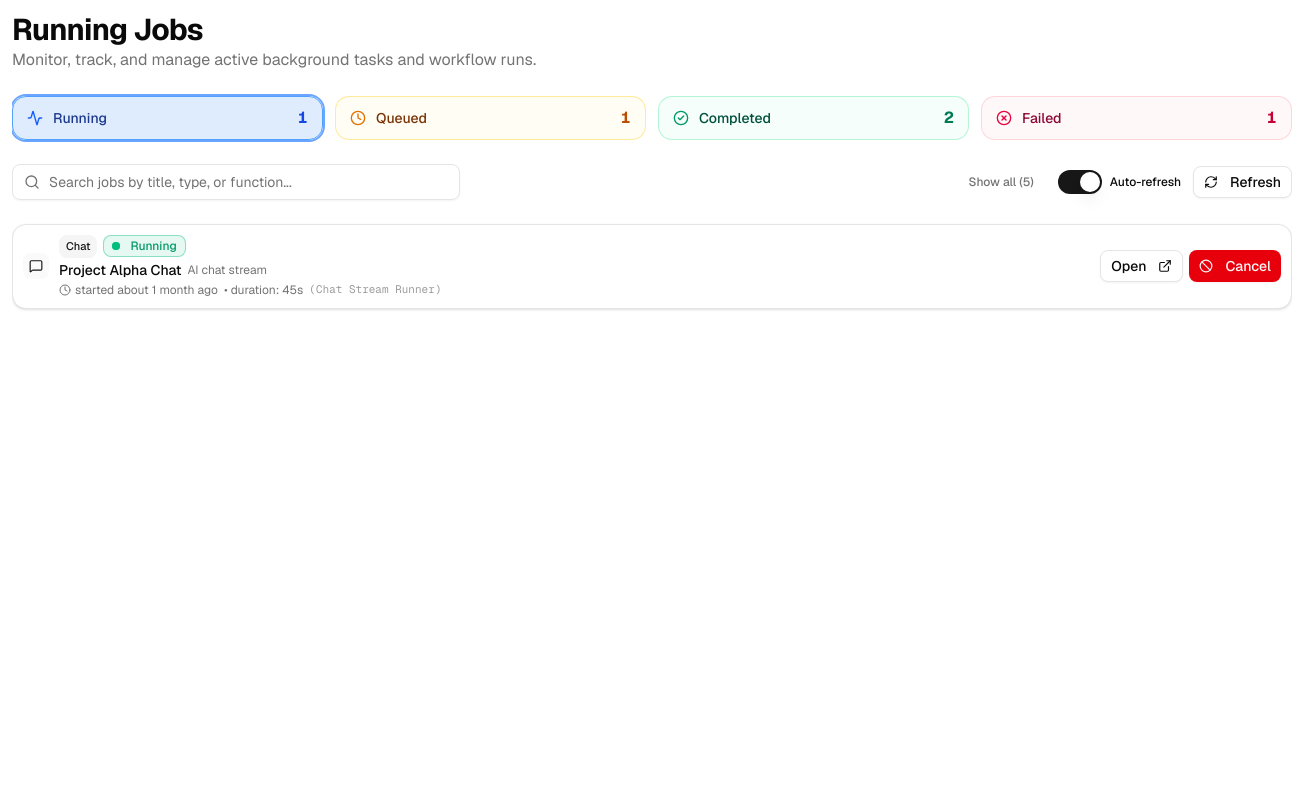
Running Jobs Page & JobsView Component › search input filters jobs by title and type
Expected: the link "Project Alpha Chat" is shown, [59,260,182,280]
Note: Switch to ALL via show all button first
Step 1. Click the button "Show all (5)" → coordinates (1001, 182), box [956,166,1046,198]
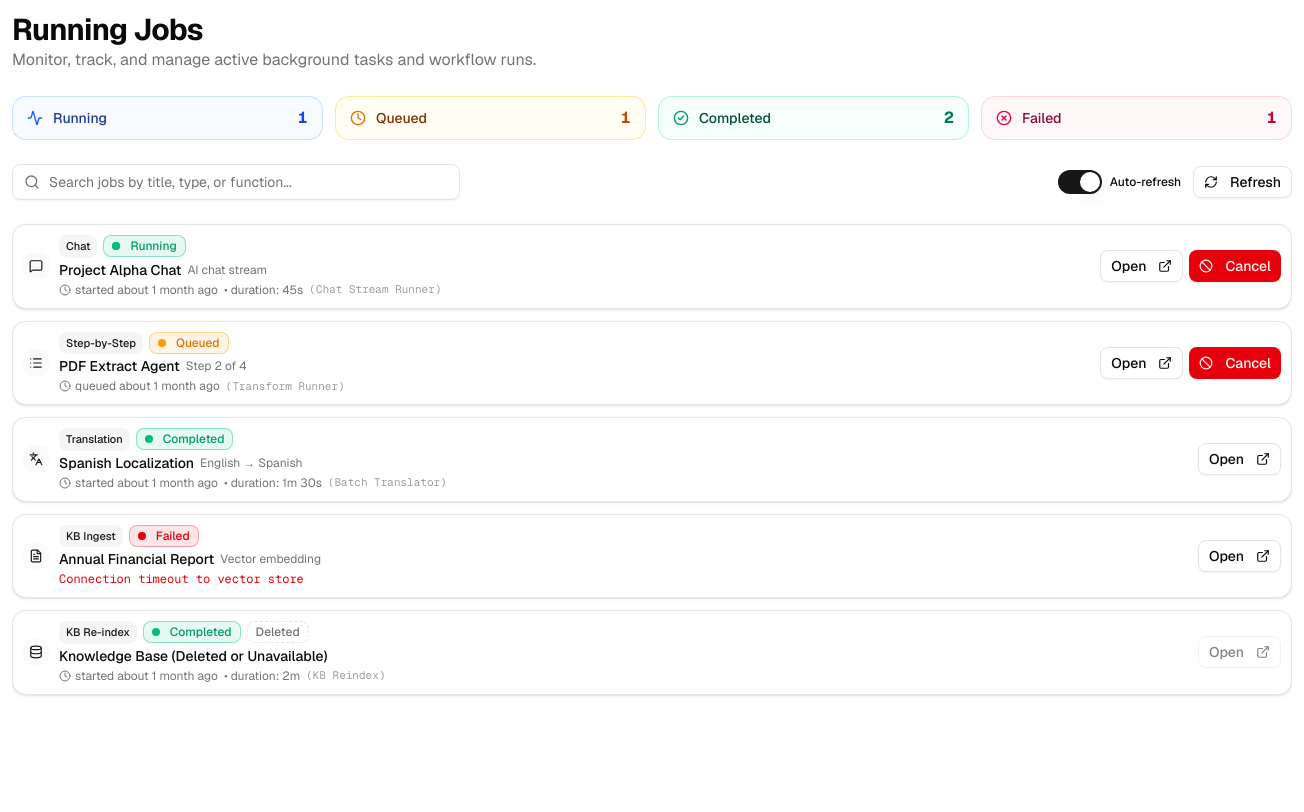
Note: Search by title
Step 2. Type "Spanish" into the field with placeholder "Search jobs by title, type, or function..." → coordinates (236, 182), box [12,164,460,200]
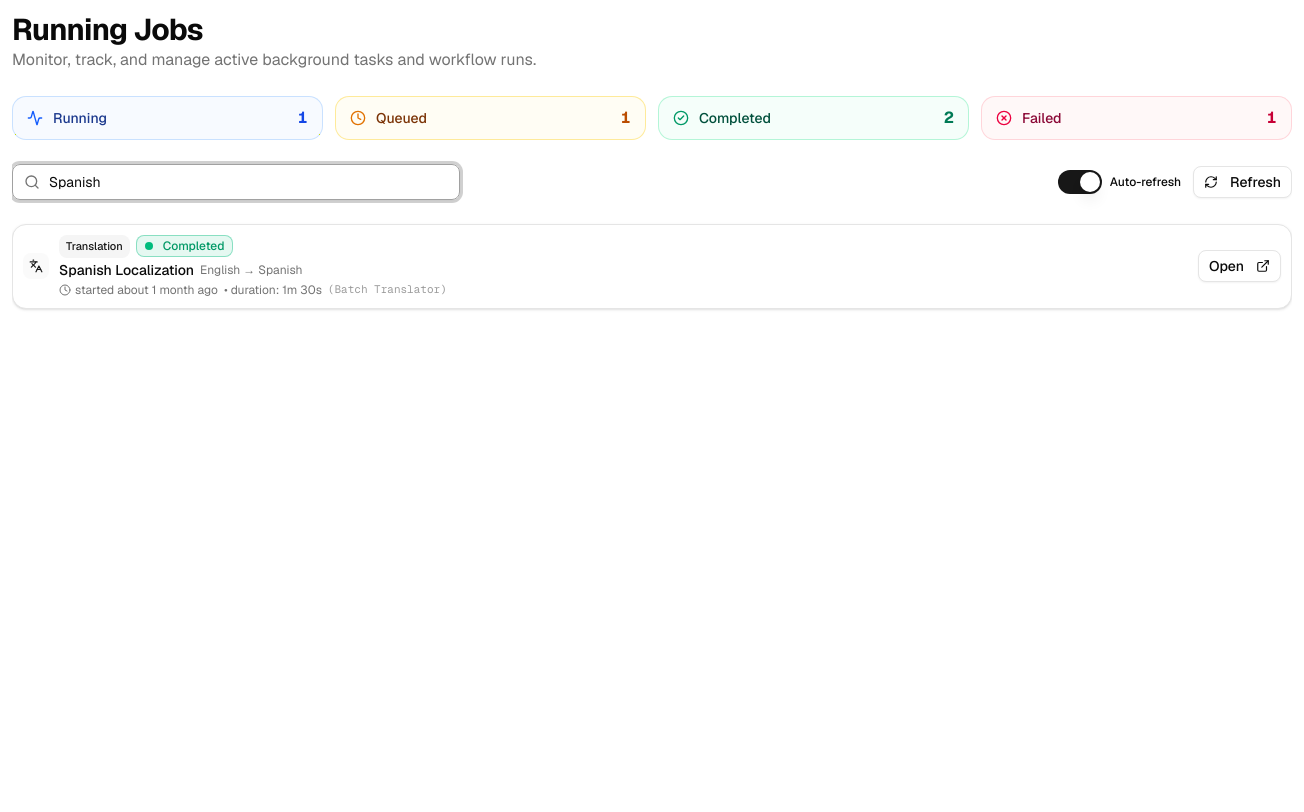
Now the link "Spanish Localization" is shown, box [59,260,194,280]
Now the link "Project Alpha Chat" is gone
Now the link "Annual Financial Report" is gone
Note: Search by type
Step 3. Replace the text in the field with placeholder "Search jobs by title, type, or function..." with "kb-ingest" → coordinates (236, 182), box [12,164,460,200]
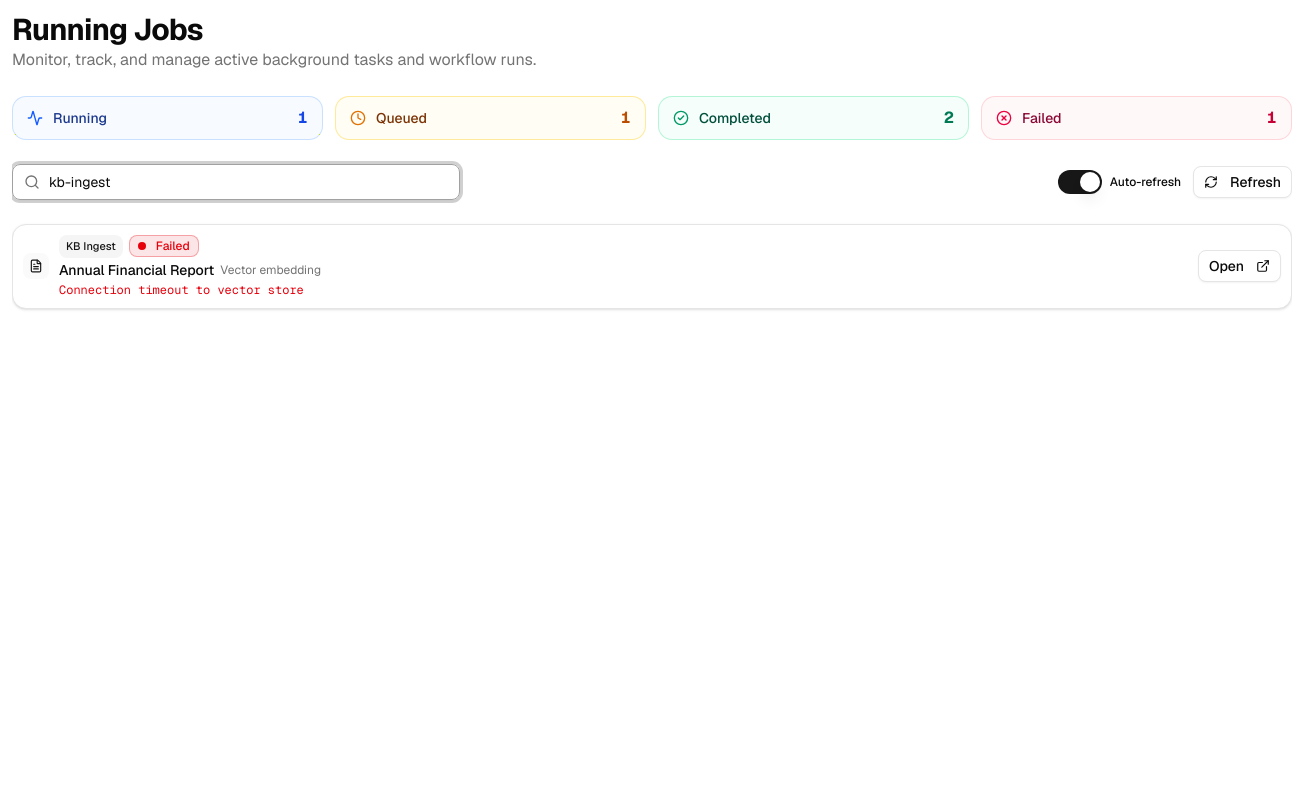
Expected: the link "Spanish Localization" is not shown
Now the link "Annual Financial Report" is shown, box [59,260,214,280]
Note: Clear search
Step 4. Clear the field with placeholder "Search jobs by title, type, or function..." → coordinates (236, 182), box [12,164,460,200]
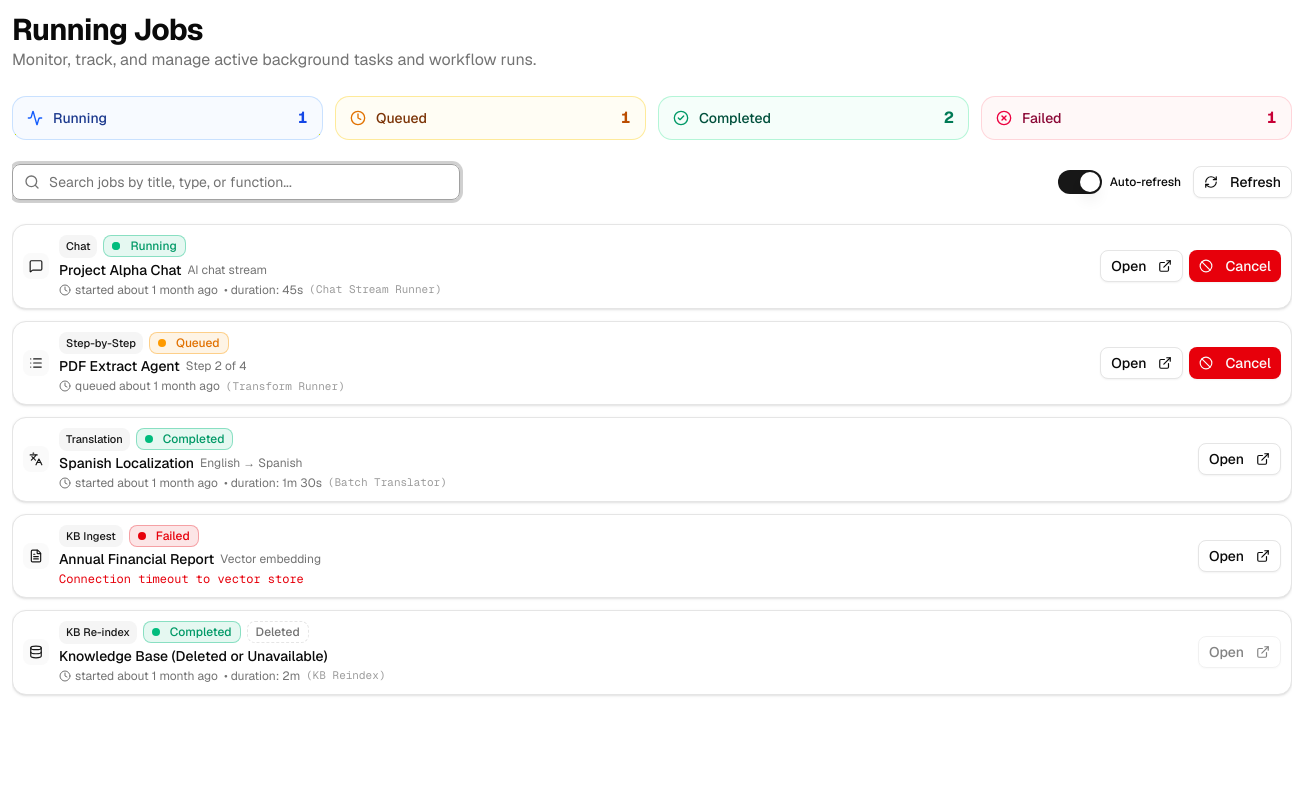
Now the link "Project Alpha Chat" is shown, box [59,260,182,280]
Now the link "Spanish Localization" is shown, box [59,452,194,472]
